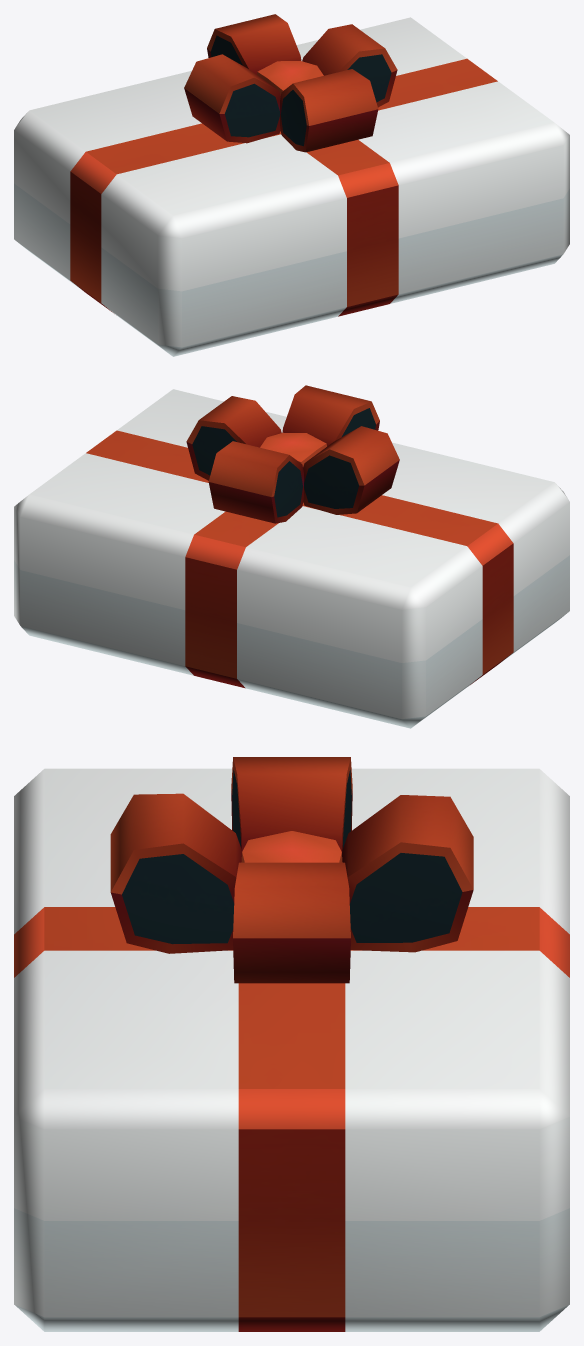
Rendered from presi_square_2_white.fbx.
3 renders of one model, top to bottom at view 1: azimuth 30°, elevation 25°; view 2: azimuth 150°, elevation 25°; view 3: azimuth 270°, elevation 25°, orthographic. The views are drawn at different scales.
Parts seen in each view (by area): view 1: presi_square_2_white; view 2: presi_square_2_white; view 3: presi_square_2_white.
Part boxes in pixels (box(x1,y1,x2,y2)): presi_square_2_white: box(14, 14, 569, 356); presi_square_2_white: box(14, 385, 569, 728); presi_square_2_white: box(14, 757, 569, 1331).
Size of the model in its own units: 156 by 74 by 106.
1 material, 1 textured.
